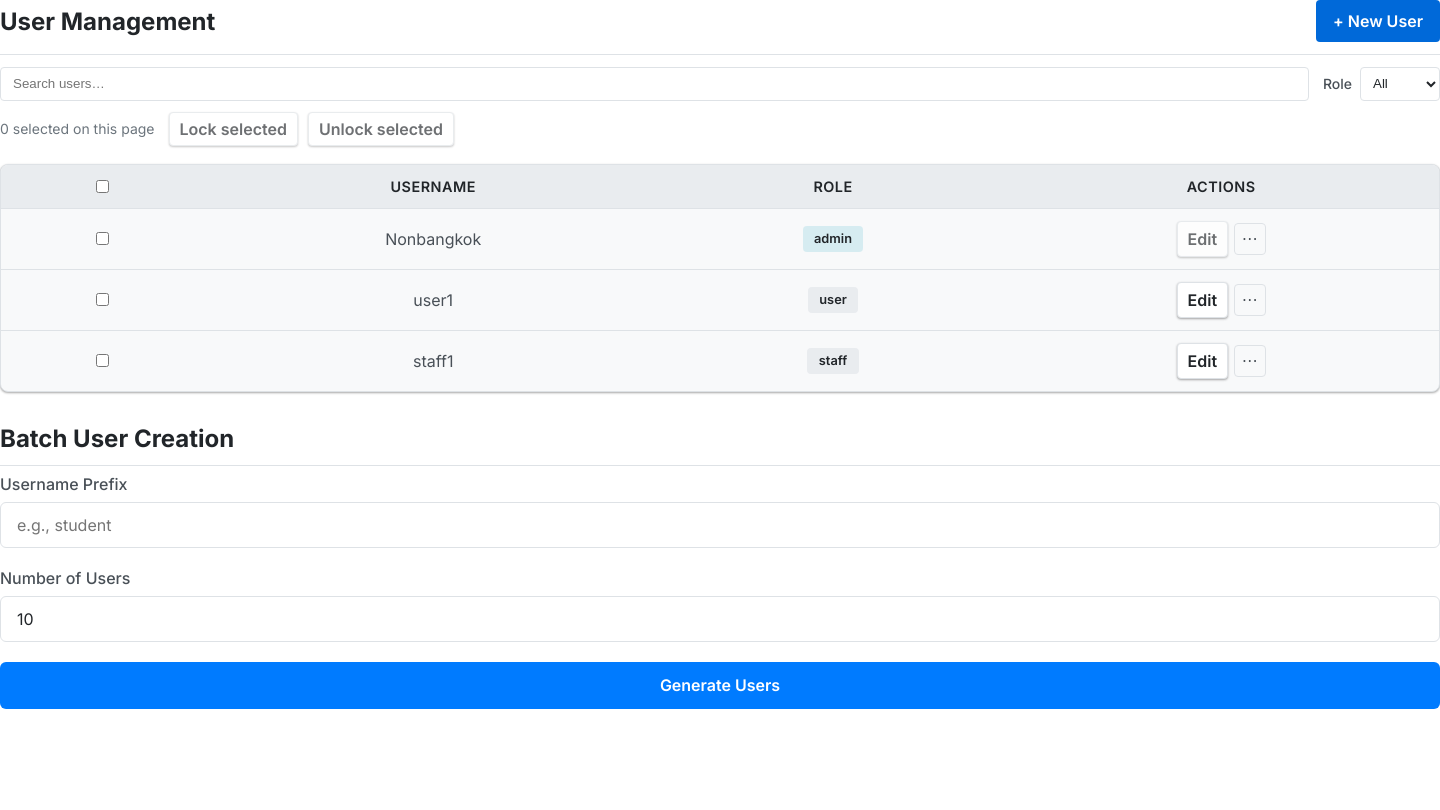
Scenario: UserManagement Component › allows admins to lock a regular user and refreshes the row after confirmation
The width and height of the screenshot is (1440, 810).
Expected: the text "user1" is shown, [204,269,663,330]
Click the button named "row actions for user1": click(1250, 300) [1234,284,1266,316]
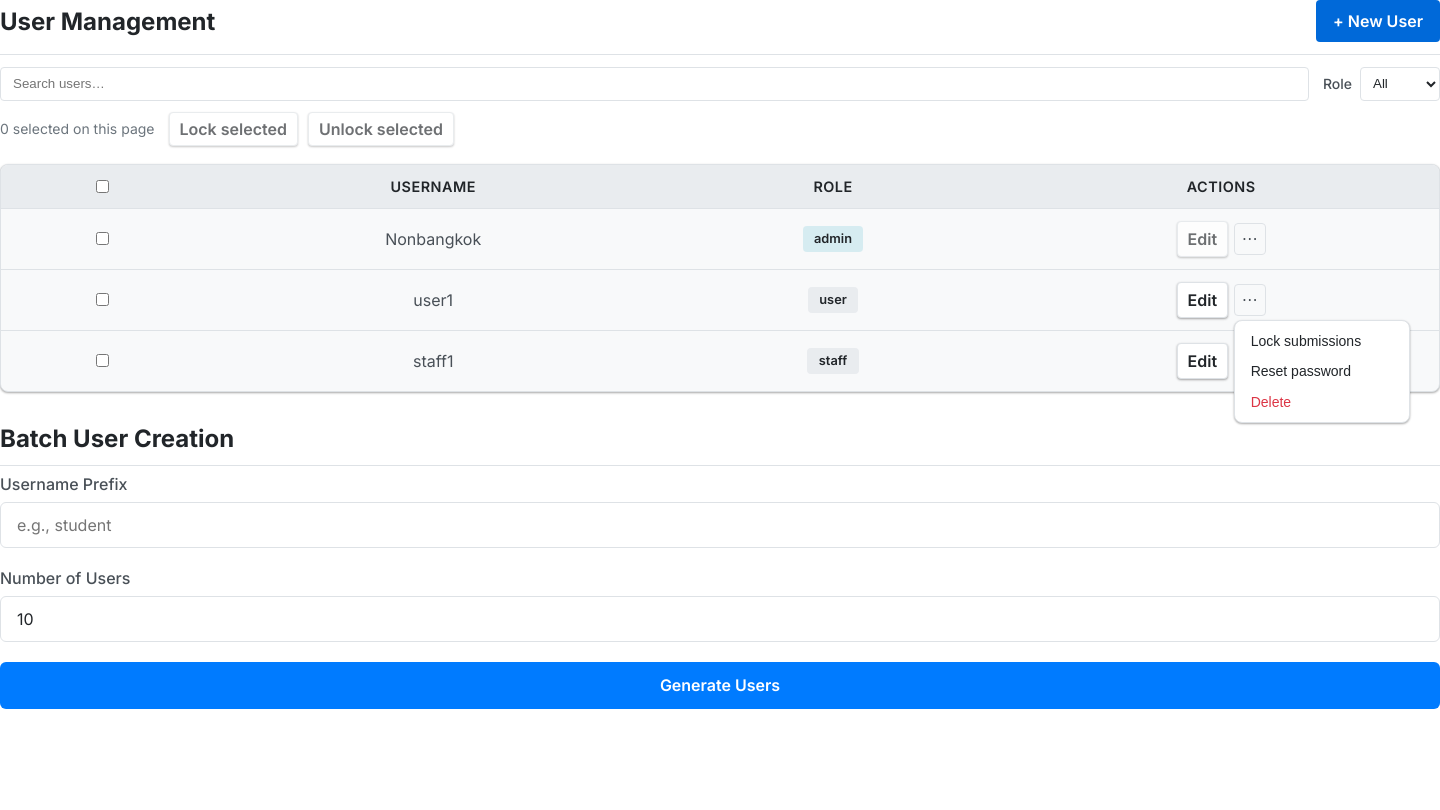
Click the menu item "Lock submissions": click(1322, 341) [1240,326,1404,356]
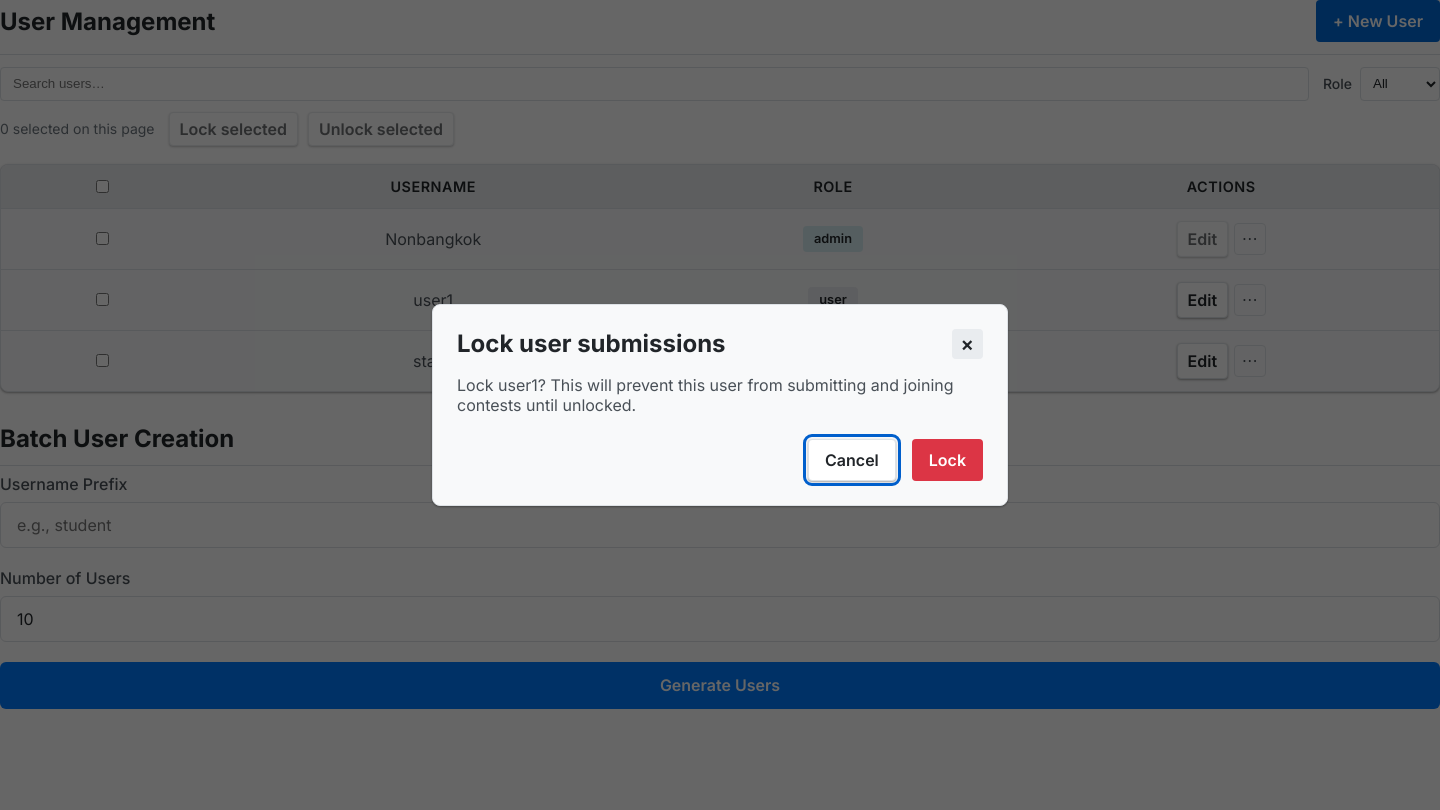
Expected: the text "prevent this user from submitting and joining contests" is shown, [457,375,954,415]
Click the button "Lock": click(947, 460) [912,439,983,481]
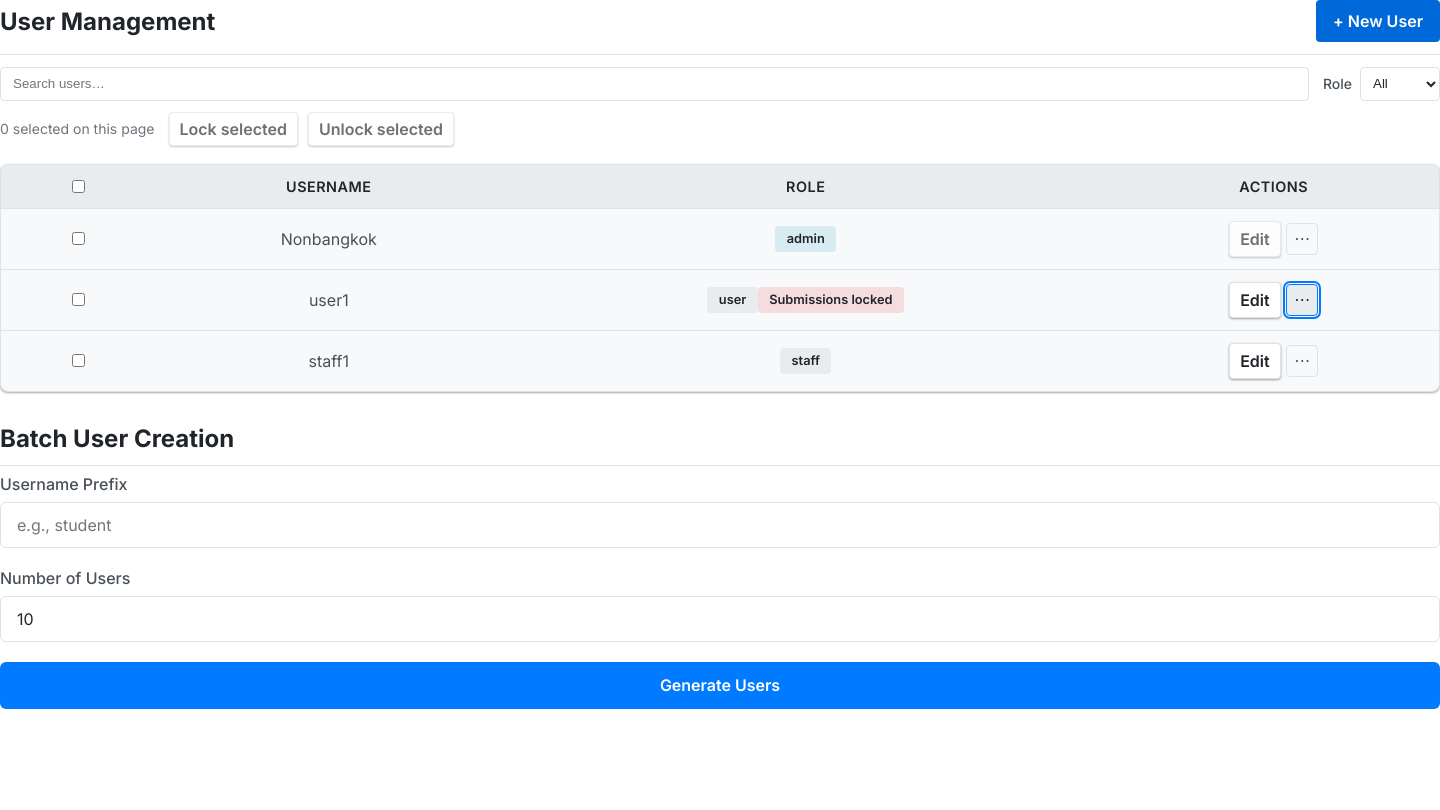
Expected: the text "Submissions locked" is shown, [758,287,904,313]
